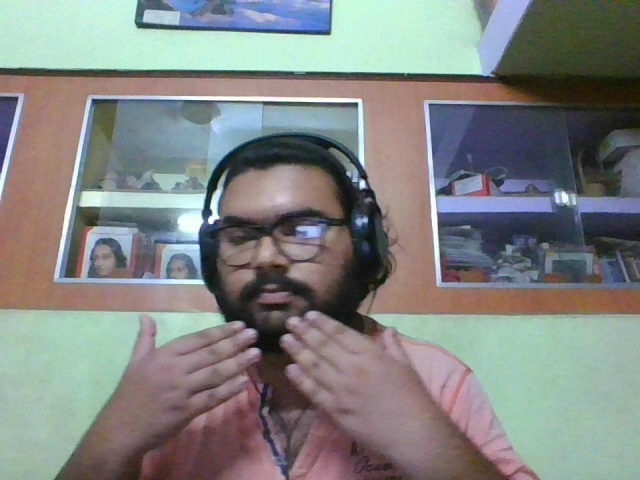thankyou: (119, 303, 428, 457)
